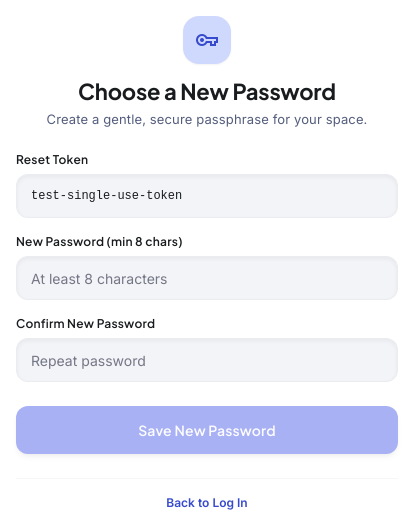
Steplight AI Phase 3 Frontend Authentication Integration Suite › resets password with single-use token
This screenshot has width=415, height=527.
Expected: the field labelled "Reset Token" holds "test-single-use-token", [16,174,398,218]
Type "UpdatedPassword123" into the password field labelled "New Password (min 8 chars)". click: (207, 278)
box: [16,256,398,300]
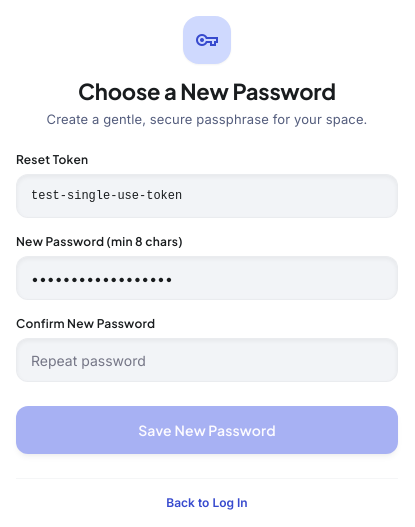
Type "UpdatedPassword123" into the password field labelled "Confirm New Password". click: (207, 360)
box: [16,338,398,382]
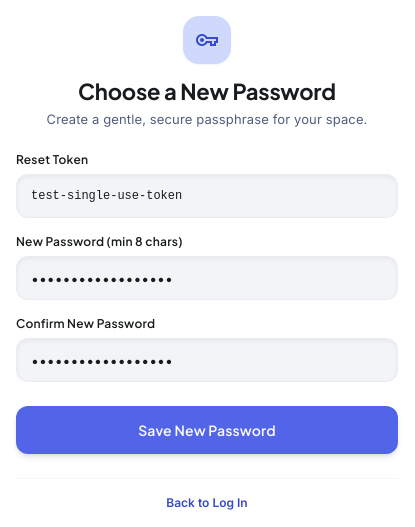
Click the button "Save New Password". click: (207, 430)
box: [16,406,398,454]
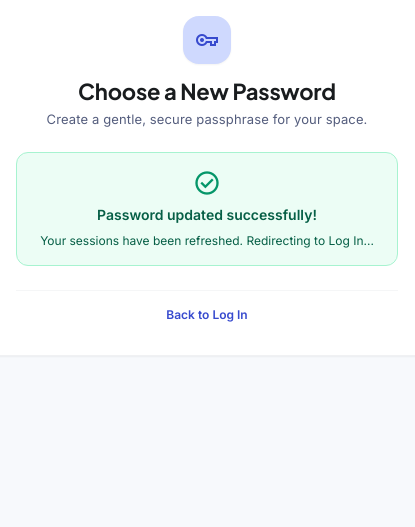
Now the text "Password updated successfully!" is shown, box [97,205,317,225]
